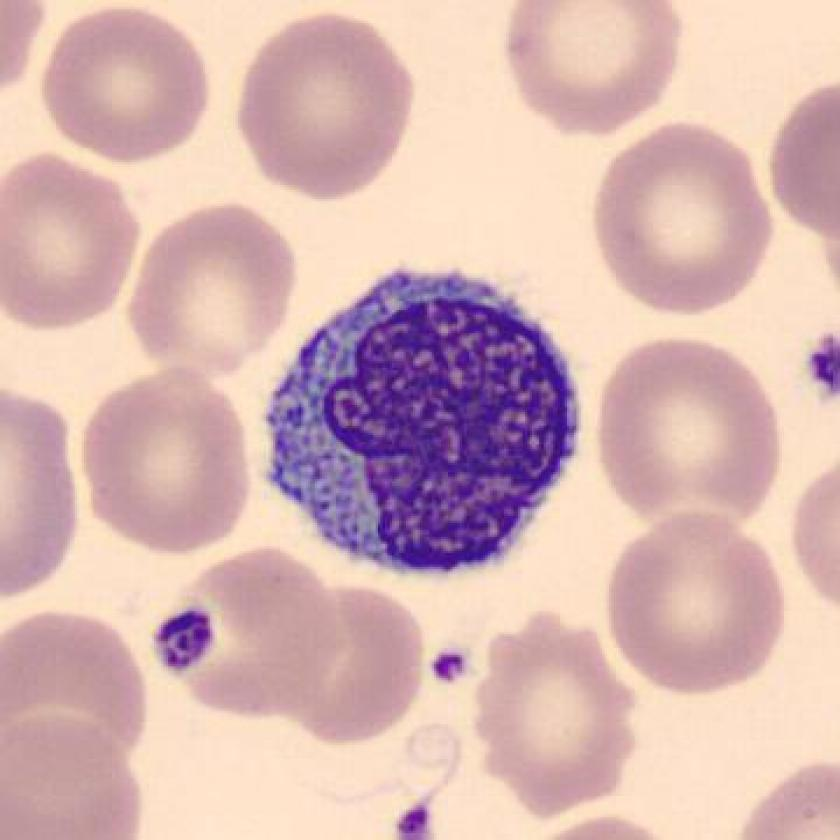monocyte: (244, 249, 601, 591)
